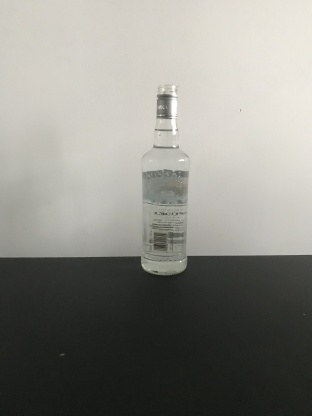nakretka: (154, 80, 180, 120)
